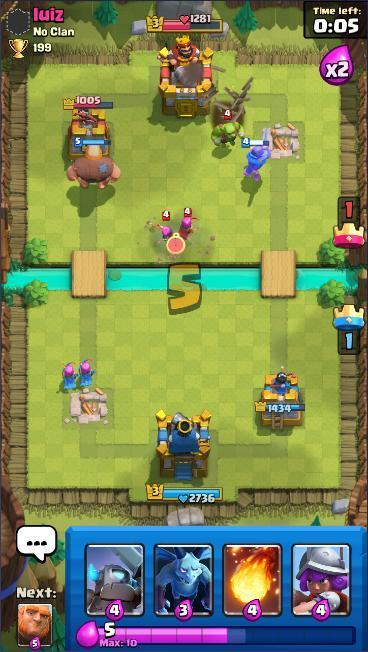ally_archer: (73, 355, 97, 388), (58, 359, 78, 391)
ally_giant: (64, 135, 123, 191)
ally_knight: (240, 136, 274, 182)
enemy_archer: (154, 209, 177, 245), (178, 206, 201, 241)
enemy_brawler: (209, 109, 246, 150)
